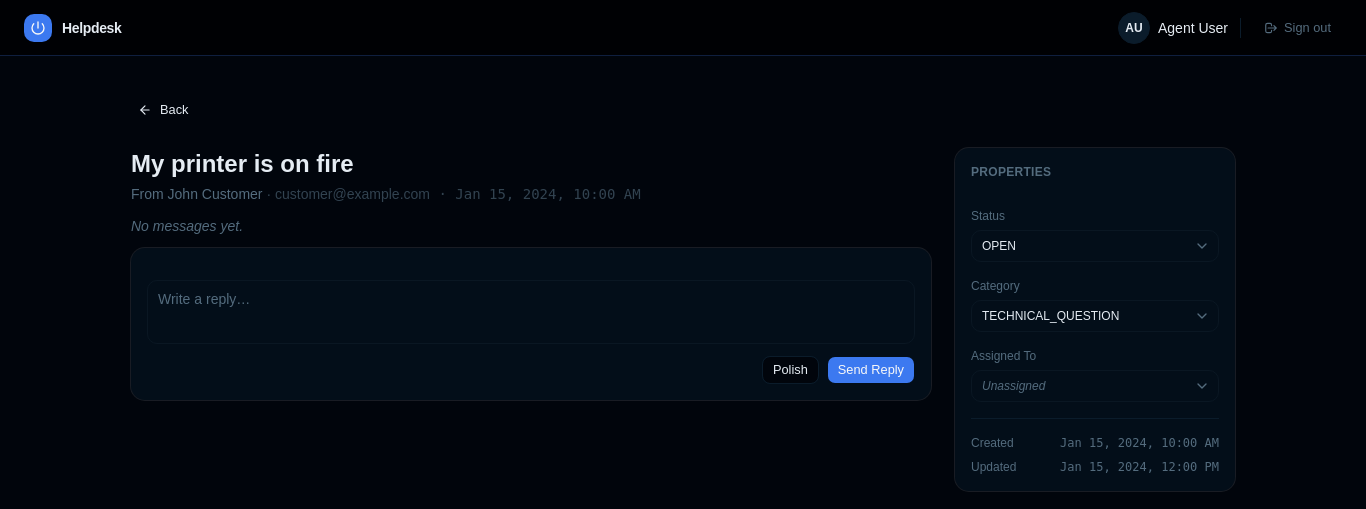
TicketDetailPage › category › shows the current category as the selected option
Expected: the heading "My printer is on fire" is shown, x1=131 y1=150 x2=354 y2=177
Click the dropdown named "Category" at (1095, 316), box x1=971 y1=300 x2=1219 y2=332
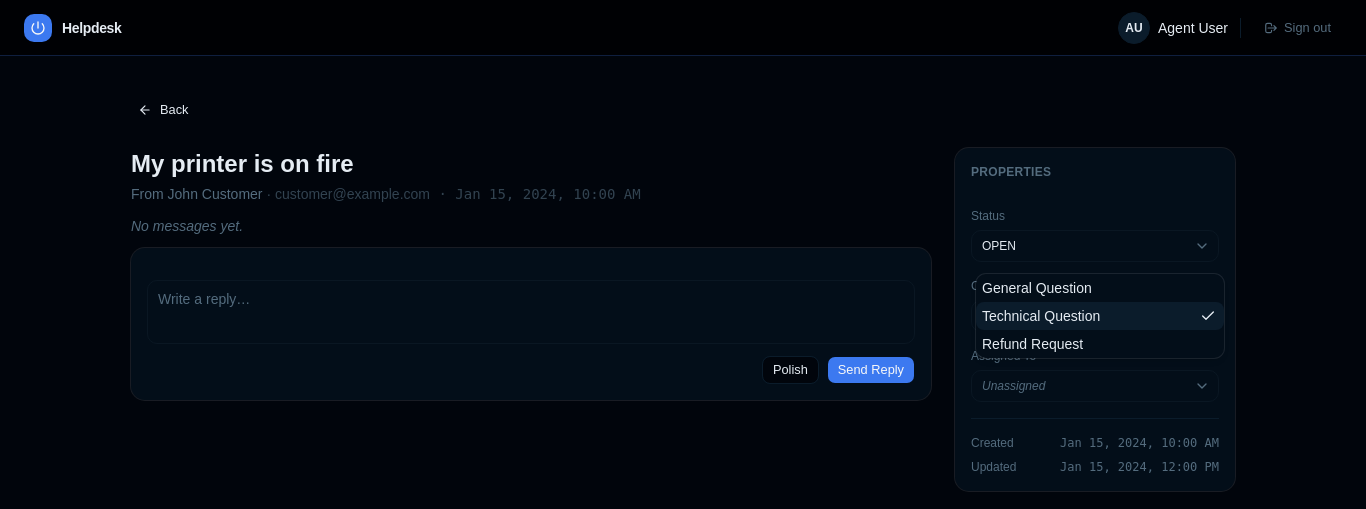
Expected: the option "Technical Question" is shown, x1=976 y1=302 x2=1224 y2=330
